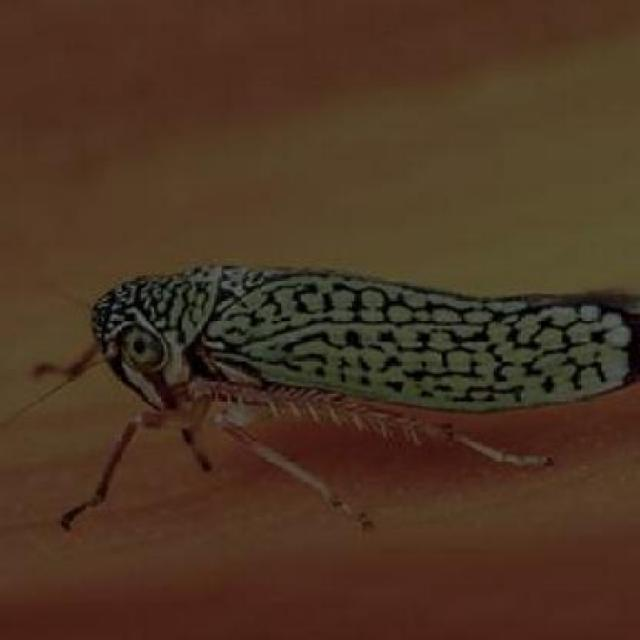green-leafhopper: (53, 260, 638, 528)
